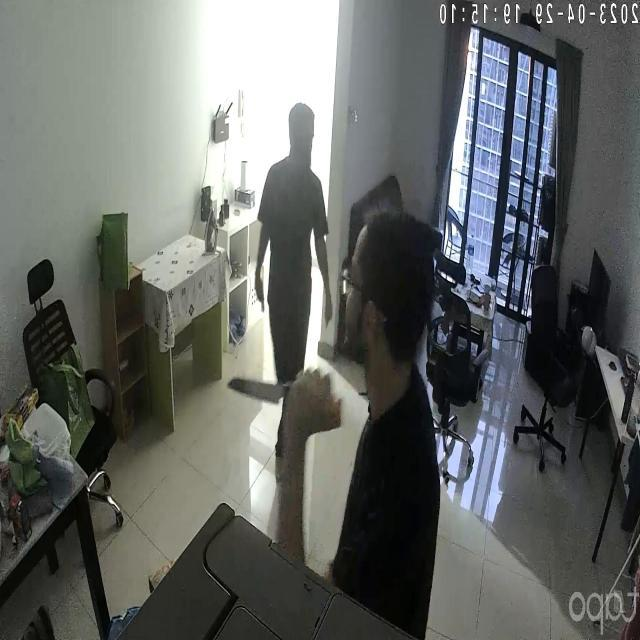Knife: (208, 361, 332, 433)
